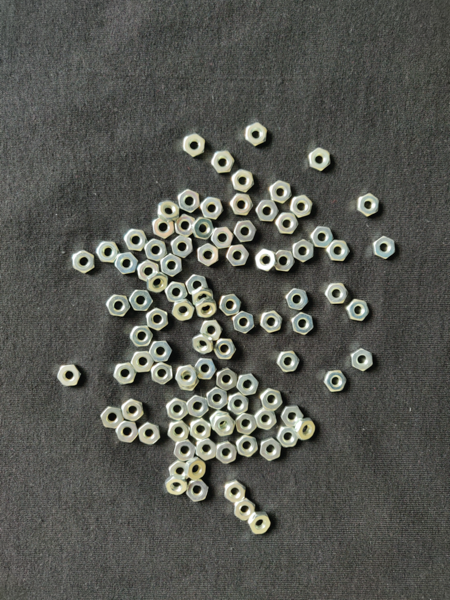nut: (245, 122, 268, 147), (183, 133, 206, 158), (212, 150, 235, 174), (232, 169, 255, 193), (357, 193, 380, 217), (201, 197, 225, 220), (124, 228, 148, 251), (115, 251, 139, 274), (260, 311, 284, 334), (346, 299, 370, 322), (57, 365, 82, 387), (216, 367, 238, 392), (260, 437, 282, 462), (270, 181, 293, 204), (373, 237, 396, 260), (255, 249, 278, 272), (171, 236, 194, 259), (145, 239, 168, 262), (236, 373, 259, 396), (121, 399, 144, 422), (101, 406, 124, 429), (138, 422, 161, 445), (248, 512, 271, 535), (178, 189, 200, 213), (73, 250, 95, 274), (106, 295, 130, 317), (325, 283, 349, 305), (113, 363, 137, 385), (175, 365, 199, 387), (236, 434, 258, 458), (165, 474, 189, 496), (225, 480, 247, 504), (309, 148, 331, 171), (256, 200, 279, 222), (291, 195, 313, 218), (158, 200, 180, 223), (234, 221, 257, 243), (311, 227, 334, 249), (97, 241, 120, 263), (137, 260, 160, 282), (161, 254, 183, 277), (172, 299, 195, 321), (146, 308, 168, 331), (220, 294, 242, 317), (233, 311, 255, 334), (286, 289, 309, 311), (324, 370, 347, 392), (351, 349, 373, 372), (261, 388, 283, 411), (207, 387, 229, 410), (187, 395, 209, 418), (167, 398, 189, 421), (294, 418, 316, 441), (214, 414, 236, 437), (167, 421, 190, 443), (174, 440, 196, 463), (186, 480, 209, 502), (234, 498, 256, 521), (293, 239, 314, 263), (129, 290, 153, 311), (200, 320, 224, 341), (149, 341, 173, 362), (130, 351, 154, 372), (212, 227, 234, 249), (192, 218, 214, 240), (152, 217, 174, 239), (227, 245, 249, 267), (147, 271, 169, 293), (292, 313, 314, 335), (151, 363, 173, 385), (195, 358, 217, 380), (116, 421, 138, 443), (255, 408, 277, 430), (230, 194, 253, 215), (276, 213, 299, 234), (327, 241, 350, 262), (198, 244, 219, 267), (165, 281, 188, 302), (130, 326, 153, 347), (214, 339, 237, 360), (277, 351, 300, 372), (190, 418, 211, 441), (216, 441, 237, 464), (185, 457, 206, 480), (193, 333, 214, 355), (228, 393, 249, 415), (236, 413, 257, 435), (277, 427, 299, 448), (196, 439, 217, 461), (175, 214, 195, 237), (186, 275, 209, 295), (281, 406, 304, 426), (276, 250, 296, 272), (192, 287, 214, 307), (196, 299, 217, 318), (179, 372, 200, 391), (210, 411, 229, 431), (170, 461, 189, 480)
